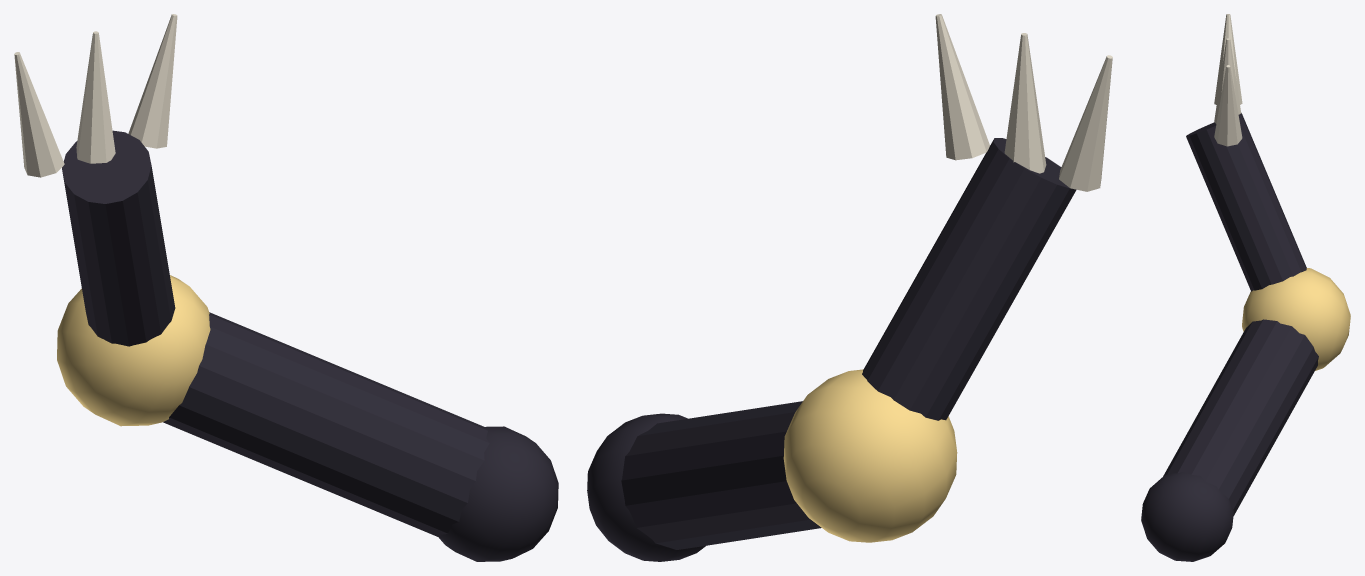
Rendered from SM_Keeper_Wepwawet_Leg11.fbx.
3 views of the same model, side by side, from view 1: azimuth 30°, elevation 25°; view 2: azimuth 150°, elevation 25°; view 3: azimuth 270°, elevation 25° (orthographic). The views are drawn at different scales.
Visible parts, largest first — view 1: SM_Keeper_Wepwawet_Leg11; view 2: SM_Keeper_Wepwawet_Leg11; view 3: SM_Keeper_Wepwawet_Leg11.
Boxes of the visible parts, <box> form: SM_Keeper_Wepwawet_Leg11: <box>14,14,558,561</box>; SM_Keeper_Wepwawet_Leg11: <box>587,14,1112,561</box>; SM_Keeper_Wepwawet_Leg11: <box>1141,14,1350,561</box>.
Size of the model in its own units: 1.94 by 2.17 by 1.03.
